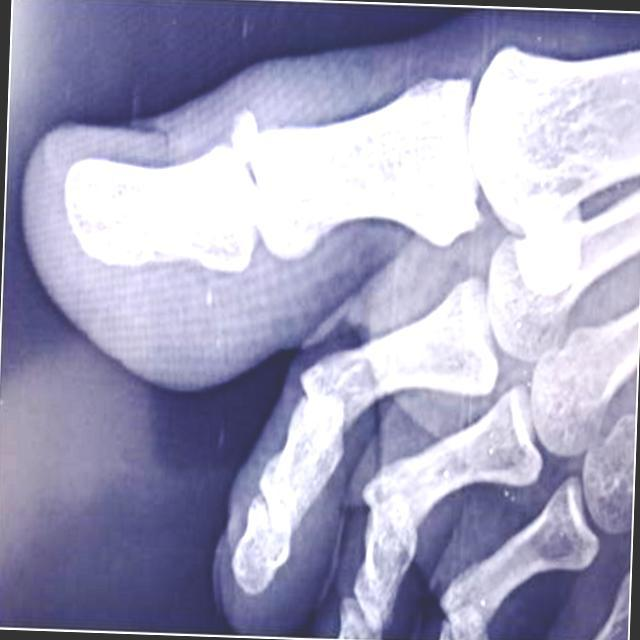Avlusion Fracture: (213, 105, 269, 158)
